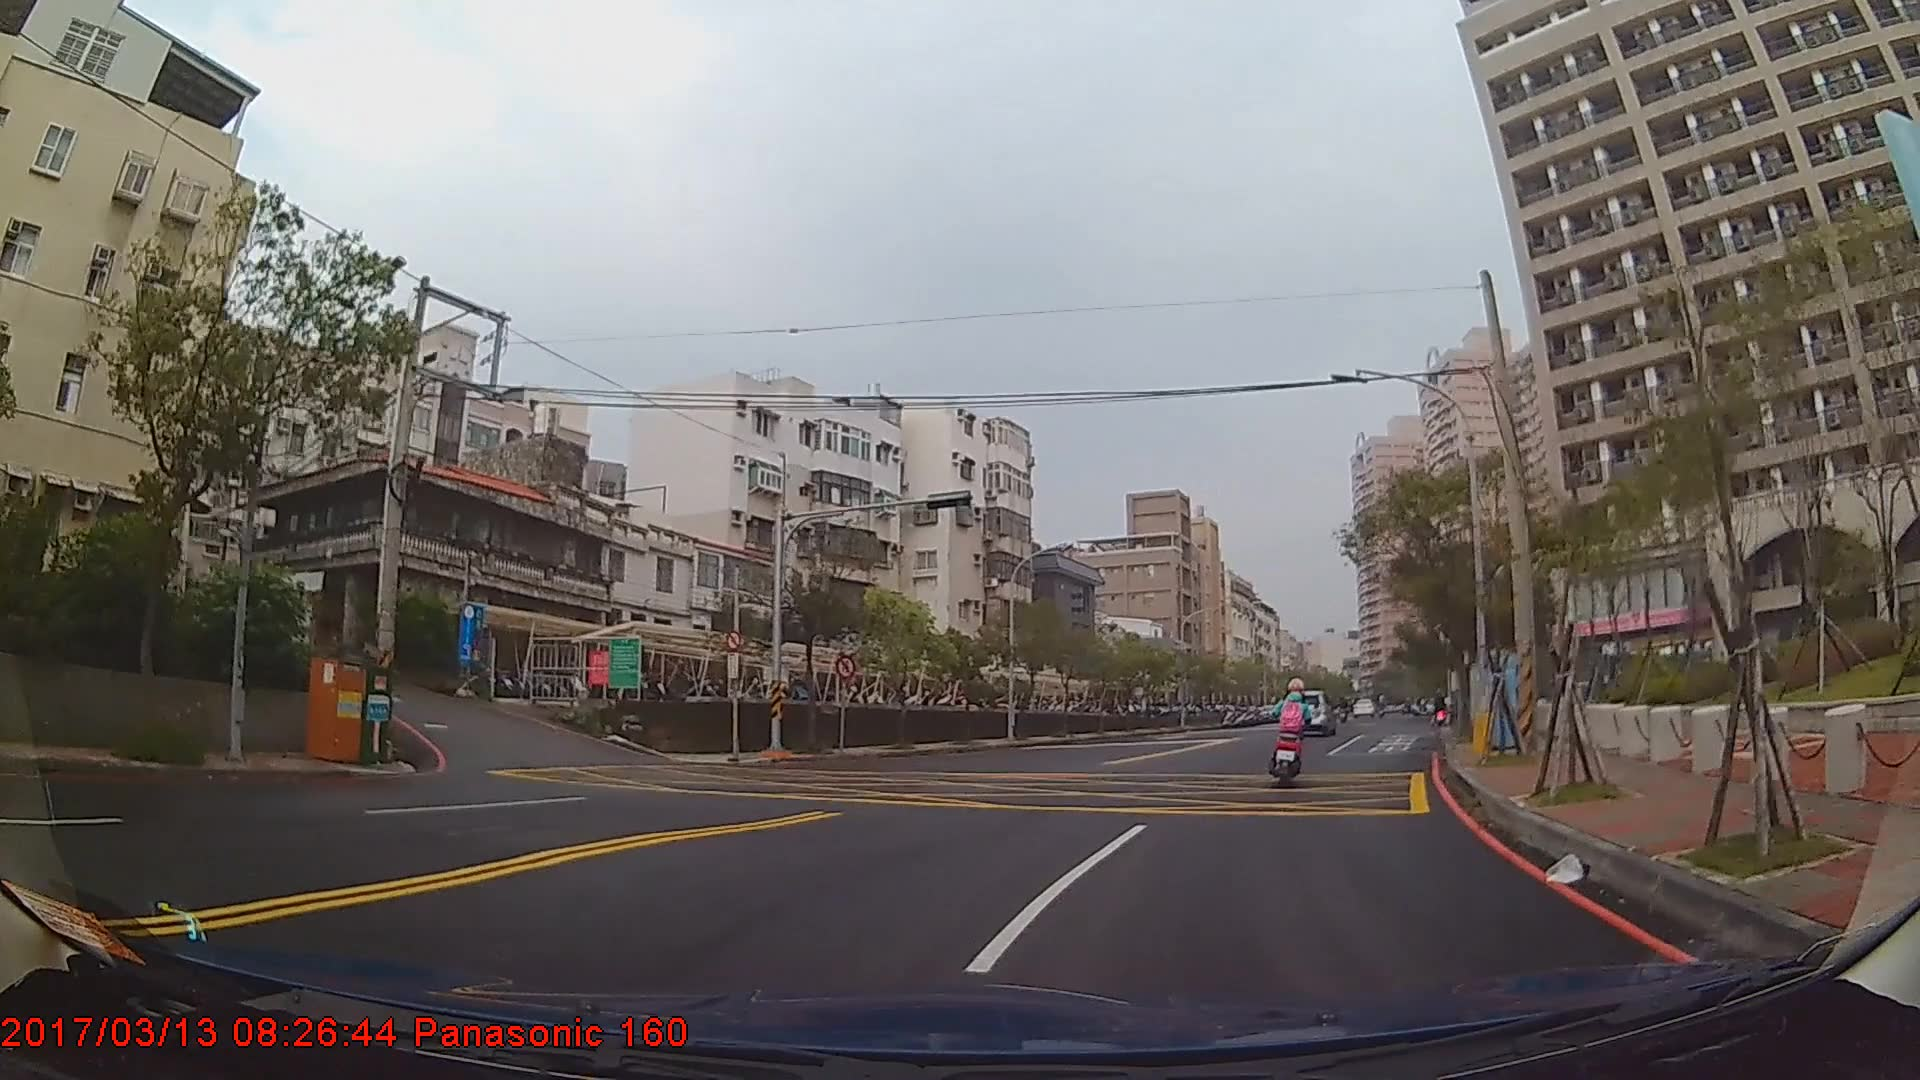rider: (1269, 679, 1317, 782)
vehicle: (1277, 686, 1339, 735)
